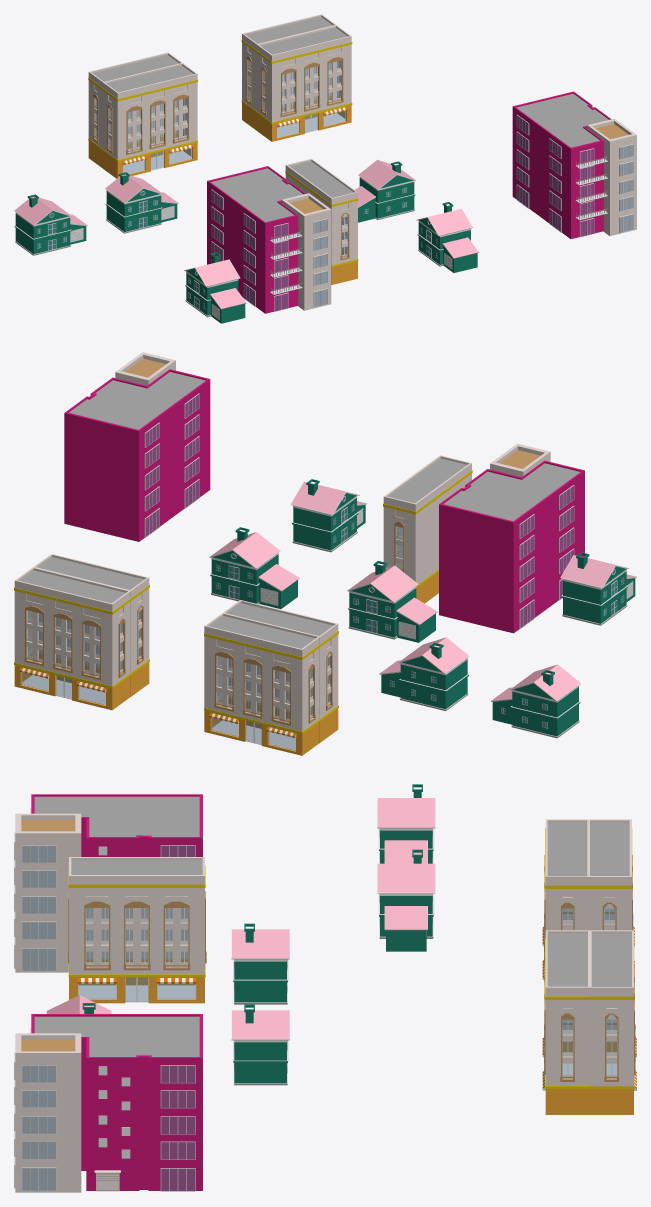
Rendered from Instacart_Project_residential.gltf.
The picture shows the model from 3 angles, top to bottom: view 1: azimuth 30°, elevation 25°; view 2: azimuth 150°, elevation 25°; view 3: azimuth 270°, elevation 25°; orthographic projection. The views are drawn at different scales.
Parts seen in each view (by area): view 1: House-Pink Light (×7), Cube-Mat.5 (×2), house-dark blue (×5), Cube-Grey (×2), Roof (×5), house-Mat.5 (×5), House-Orange (×3), Window1-Glass (×2), Windows2-Glass (×2), Window3-Glass (×2), Window4-Glass (×2), House-Yellow (×2) (+4 smaller); view 2: Cube-Mat.5 (×2), House-Pink Light (×7), house-dark blue (×6), Cube-Grey (×2), Roof (×5), house-Mat.5 (×6), House-Orange (×3), Window4-Glass (×2), Window3-Glass (×2), House-Yellow (×2), Window4-white (×2), Cube.16-Mat.5 (×2) (+2 smaller); view 3: House-Pink Light (×7), Cube-Mat.5 (×2), Cube-Grey (×2), Roof (×5), house-Mat.5 (×5), Window1-Glass (×2), house-dark blue (×4), House-Orange (×3), Window5-Glass, Window1-white (×2), Cube.16-Mat.5 (×2), House-Brown (×2) (+6 smaller).
Part boxes in pixels (<box>): House-Pink Light (×7): <box>88,14,636,310</box>; Cube-Mat.5 (×2): <box>207,91,611,313</box>; house-dark blue (×5): <box>14,175,470,315</box>; Cube-Grey (×2): <box>211,93,608,222</box>; Roof (×5): <box>93,17,353,197</box>; house-Mat.5 (×5): <box>14,160,472,286</box>; House-Orange (×3): <box>102,96,357,284</box>; Window1-Glass (×2): <box>314,145,633,306</box>; Windows2-Glass (×2): <box>274,149,593,311</box>; Window3-Glass (×2): <box>243,139,560,305</box>; Window4-Glass (×2): <box>211,115,528,262</box>; House-Yellow (×2): <box>102,42,352,161</box>; Cube-Mat.5 (×2): <box>64,369,584,633</box>; House-Pink Light (×7): <box>14,352,550,731</box>; house-dark blue (×6): <box>210,493,627,736</box>; Cube-Grey (×2): <box>69,372,580,521</box>; Roof (×5): <box>19,458,466,648</box>; house-Mat.5 (×6): <box>210,481,621,700</box>; House-Orange (×3): <box>14,654,338,755</box>; Window4-Glass (×2): <box>145,423,534,628</box>; Window3-Glass (×2): <box>185,394,573,599</box>; House-Yellow (×2): <box>14,587,320,734</box>; Window4-white (×2): <box>144,422,534,629</box>; Cube.16-Mat.5 (×2): <box>259,564,436,624</box>; House-Pink Light (×7): <box>15,813,633,1192</box>; Cube-Mat.5 (×2): <box>31,794,202,1190</box>; Cube-Grey (×2): <box>34,796,199,1056</box>; Roof (×5): <box>71,823,631,986</box>; house-Mat.5 (×5): <box>47,798,435,1039</box>; Window1-Glass (×2): <box>22,845,55,1190</box>; house-dark blue (×4): <box>233,830,433,1083</box>; House-Orange (×3): <box>69,959,633,1114</box>; Window5-Glass: <box>161,1065,194,1190</box>; Window1-white (×2): <box>14,832,56,1191</box>; Cube.16-Mat.5 (×2): <box>385,840,427,929</box>; House-Brown (×2): <box>21,820,75,1051</box>.
Size of the model in its own units: 1816 by 340 by 1375.
